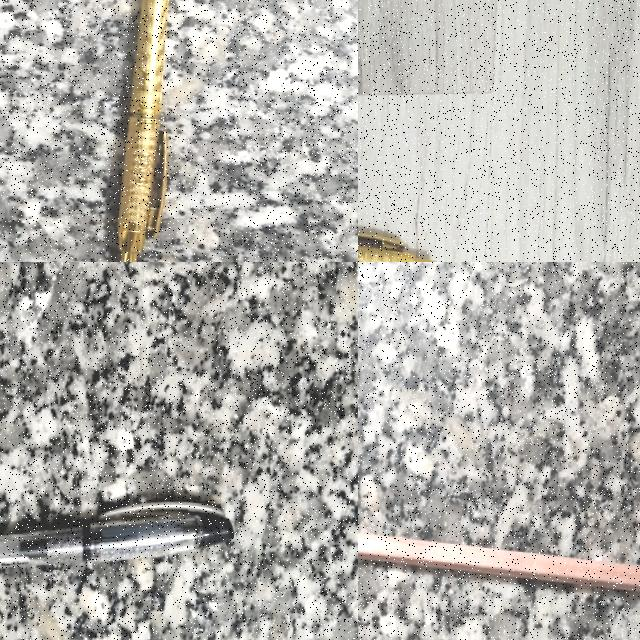pen: (0, 502, 233, 568)
pencil: (358, 534, 639, 591)
signature pen: (117, 0, 168, 261), (358, 234, 432, 261)
